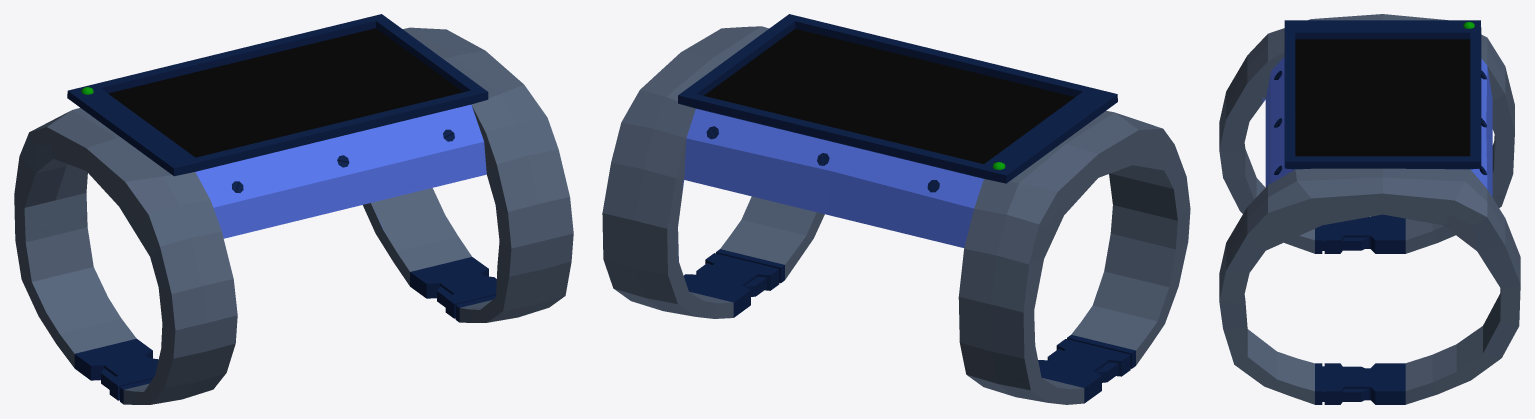
The model's file is bracelet.fbx.
3 renders of one model, left to right at view 1: azimuth 30°, elevation 25°; view 2: azimuth 150°, elevation 25°; view 3: azimuth 270°, elevation 25°, orthographic. The views are drawn at different scales.
Visible parts, largest first — view 1: Cube.003; view 2: Cube.003; view 3: Cube.003.
Part boxes in pixels (bbox=[...]): Cube.003: bbox=[14, 14, 573, 404]; Cube.003: bbox=[602, 14, 1190, 404]; Cube.003: bbox=[1219, 14, 1520, 404].
Size of the model in its own units: 0.1093 by 0.0774 by 0.0638.
